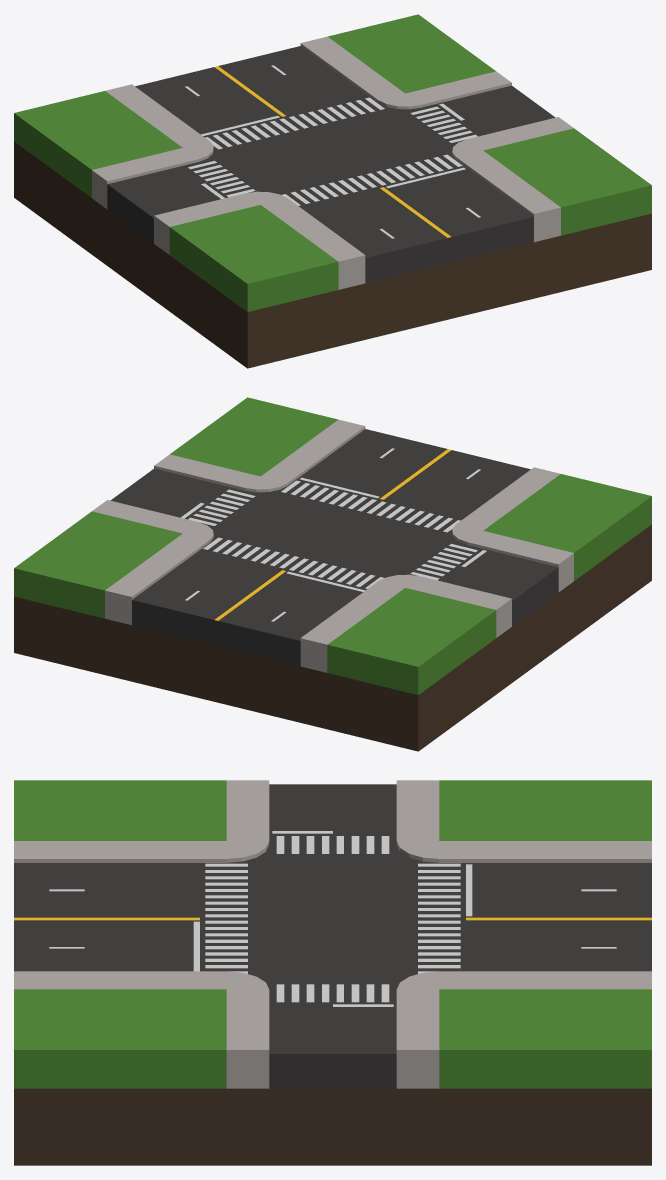
File: tile-road-mainroad-intersection.glb
3 renders of one model, top to bottom at view 1: azimuth 30°, elevation 25°; view 2: azimuth 150°, elevation 25°; view 3: azimuth 270°, elevation 25°, orthographic. The views are drawn at different scales.
Parts seen in each view (by area): view 1: tile-road-mainroad-intersection; view 2: tile-road-mainroad-intersection; view 3: tile-road-mainroad-intersection.
Part boxes in pixels (bbox=[...]): tile-road-mainroad-intersection: bbox=[14, 14, 651, 368]; tile-road-mainroad-intersection: bbox=[14, 397, 651, 751]; tile-road-mainroad-intersection: bbox=[14, 780, 651, 1165].
Bounding box in the file's own units: 30 × 6 × 30.
